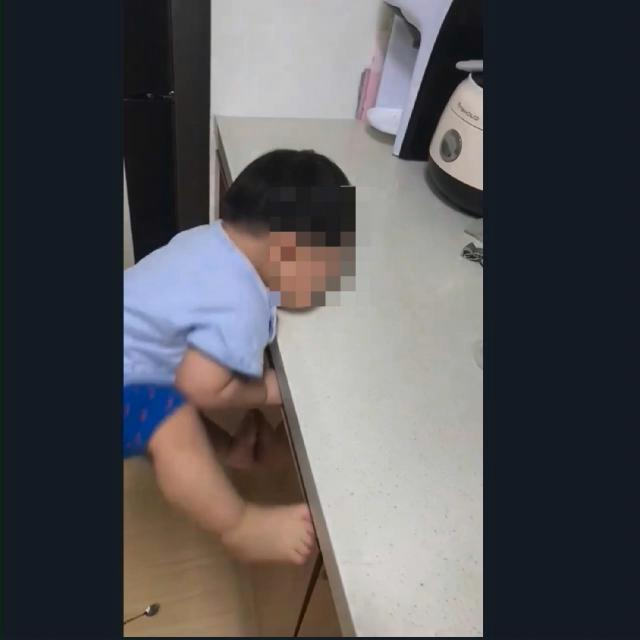child: (126, 156, 356, 562)
